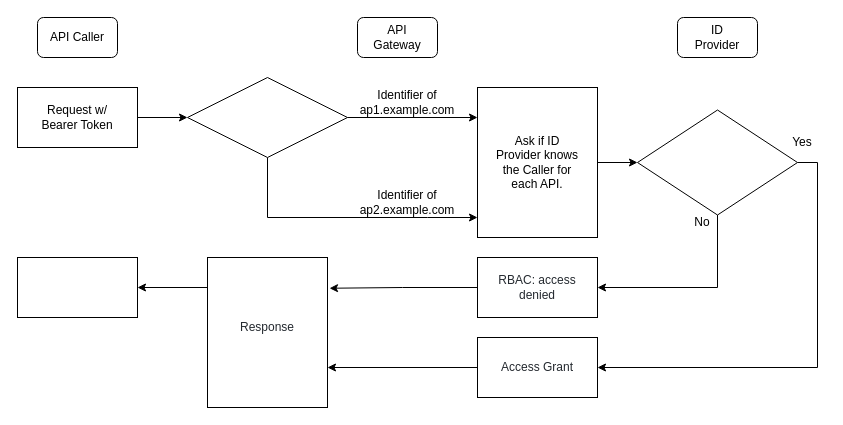
Image size: 843x425. Some labels were removed from this diagram. Each missing label, with the centre of its shape:
"Check if each API identified by Identifier was registered." belongs at (717,162).
"Receive" belongs at (77,287).
"Which Identifier the Caller uses?" belongs at (267,117).
